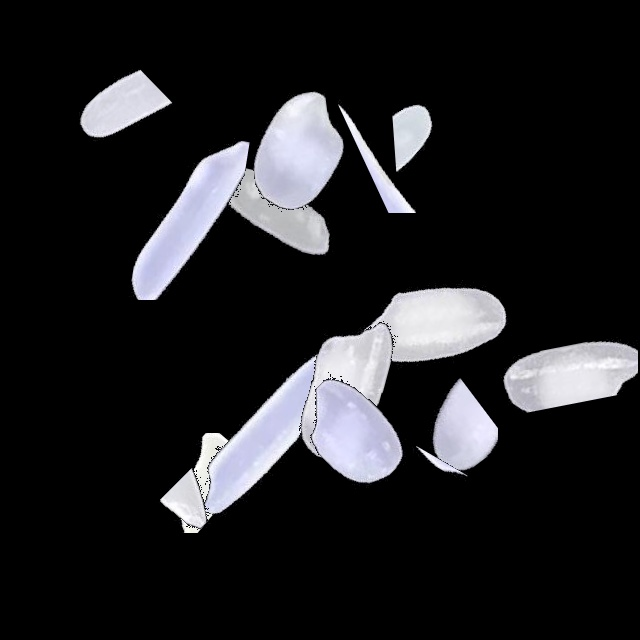Broken: (27, 131, 277, 300), (491, 205, 638, 455), (31, 8, 173, 258), (359, 326, 498, 576), (301, 93, 551, 213), (96, 460, 346, 564), (321, 99, 571, 203), (49, 433, 299, 533), (248, 427, 498, 515)
Full: (308, 200, 558, 450), (151, 308, 401, 558), (150, 84, 400, 334), (174, 27, 424, 277), (219, 265, 469, 515), (225, 310, 475, 560)
